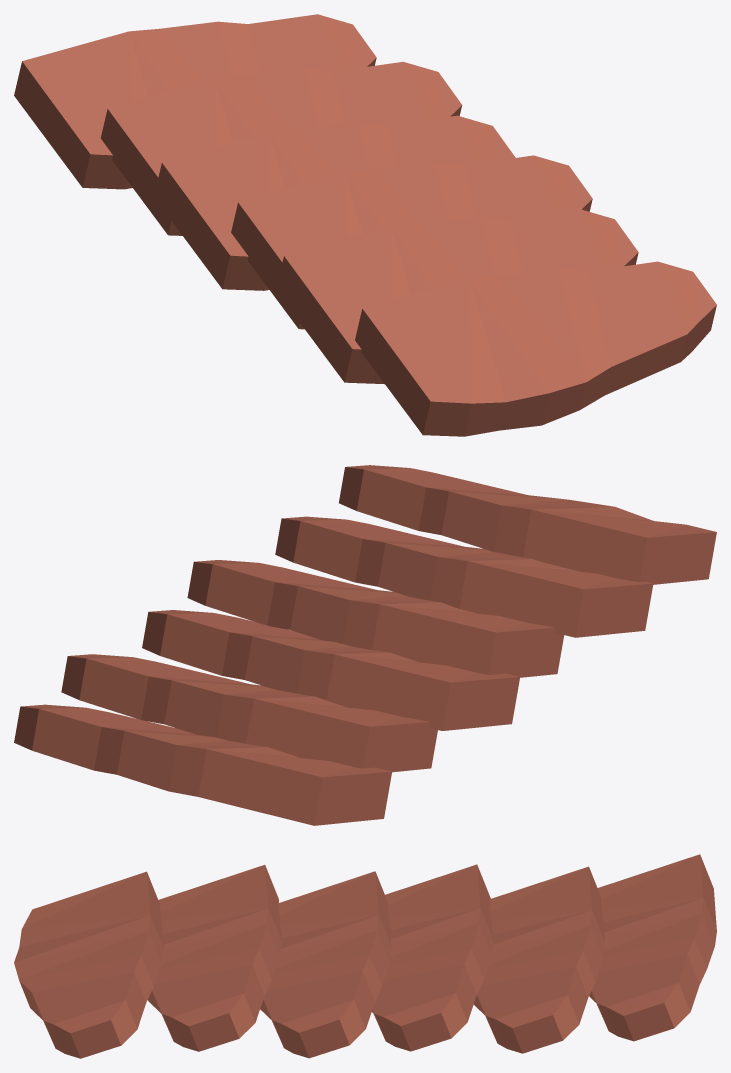
Rendered from cuttedChickenFilletMany.fbx.
3 renders of one model, top to bottom at view 1: azimuth 30°, elevation 25°; view 2: azimuth 150°, elevation 25°; view 3: azimuth 270°, elevation 25°, orthographic. The views are drawn at different scales.
Visible parts, largest first — view 1: Cylinder, Cylinder.001, Cylinder.005, Cylinder.004, Cylinder.003, Cylinder.002; view 2: Cylinder, Cylinder.005, Cylinder.001, Cylinder.003, Cylinder.002, Cylinder.004; view 3: Cylinder, Cylinder.001, Cylinder.004, Cylinder.002, Cylinder.005, Cylinder.003.
Part boxes in pixels (left/top/right/bottom): Cylinder: left=355, top=261, right=716, bottom=436; Cylinder.001: left=276, top=209, right=638, bottom=384; Cylinder.005: left=14, top=14, right=376, bottom=189; Cylinder.004: left=100, top=61, right=462, bottom=235; Cylinder.003: left=154, top=115, right=515, bottom=290; Cylinder.002: left=231, top=155, right=592, bottom=329; Cylinder: left=339, top=465, right=716, bottom=584; Cylinder.005: left=14, top=704, right=391, bottom=825; Cylinder.001: left=275, top=516, right=653, bottom=637; Cylinder.003: left=142, top=610, right=520, bottom=730; Cylinder.002: left=187, top=560, right=564, bottom=677; Cylinder.004: left=61, top=654, right=437, bottom=772; Cylinder: left=14, top=871, right=163, bottom=1058; Cylinder.001: left=148, top=865, right=281, bottom=1051; Cylinder.004: left=473, top=866, right=604, bottom=1053; Cylinder.002: left=260, top=871, right=391, bottom=1058; Cylinder.005: left=589, top=854, right=716, bottom=1041; Cylinder.003: left=372, top=864, right=493, bottom=1051.
Size of the model in its own units: 361 by 110 by 772.
